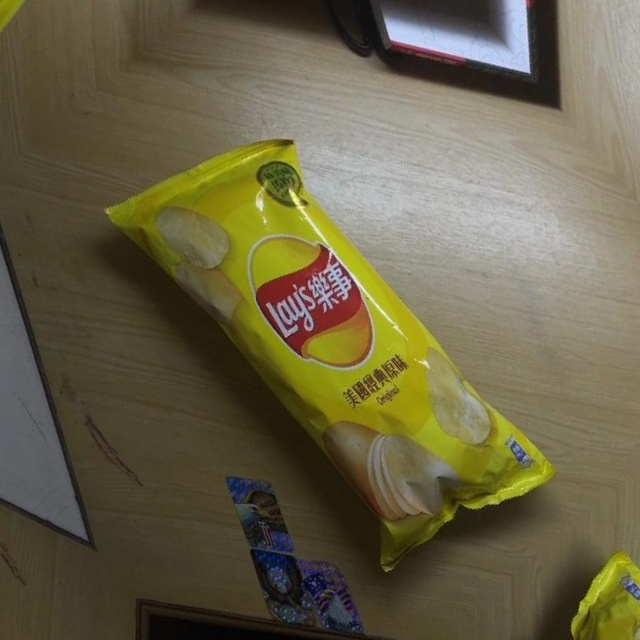Lay-s-original: (89, 85, 570, 603)
